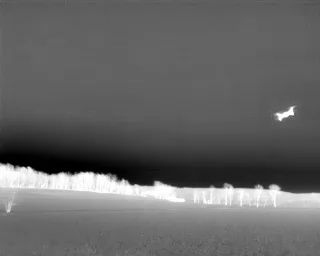DRONE: (270, 100, 301, 127)
